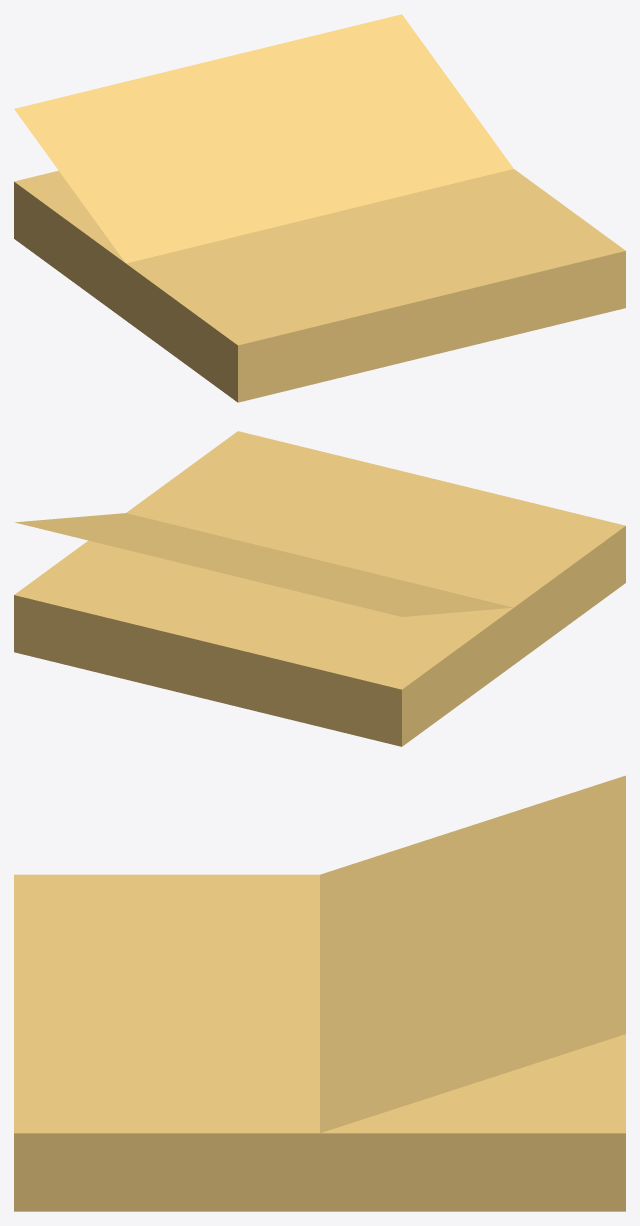
Rendered from NoteStack.fbx.
The picture shows the model from 3 angles, top to bottom: view 1: azimuth 30°, elevation 25°; view 2: azimuth 150°, elevation 25°; view 3: azimuth 270°, elevation 25°; orthographic projection. The views are drawn at different scales.
Visible parts, largest first — view 1: NoteStack; view 2: NoteStack; view 3: NoteStack.
Part boxes in pixels (x1,y1,x2,y2): NoteStack: (14,14,625,402); NoteStack: (14,431,625,746); NoteStack: (14,775,625,1211).
Bounding box in the file's own units: 31.6 × 10.11 × 31.6.
